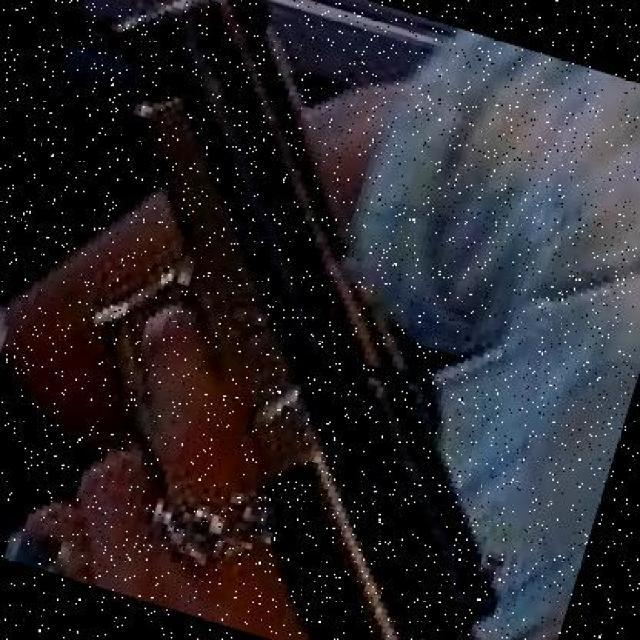rifle: (57, 1, 510, 640)
